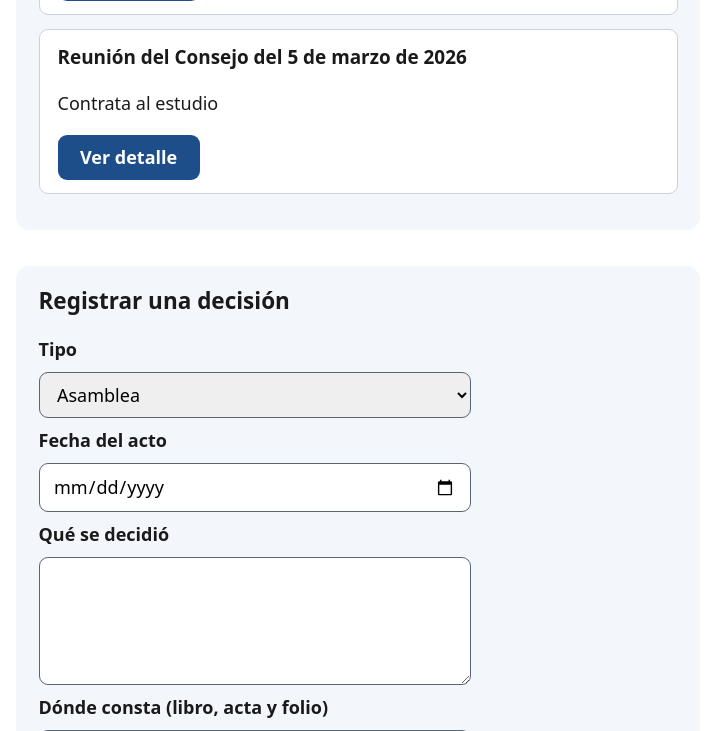
Test case: página /mandatos › registra una decisión con CSRF y una clave de reintento, y vuelve a pedir las listas
This screenshot has width=717, height=731.
(page scrolled)
Select "Contrato de administración" in the dropdown labelled "Tipo" at (254, 395), box [38, 372, 470, 418]
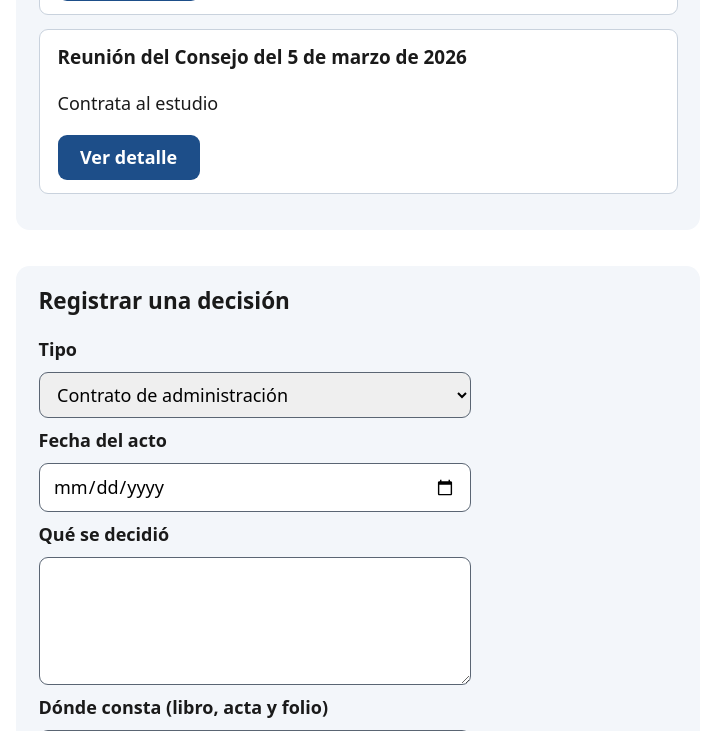
Type "2026-10-01" into the date field labelled "Fecha del acto" at (254, 488), box [38, 463, 470, 512]
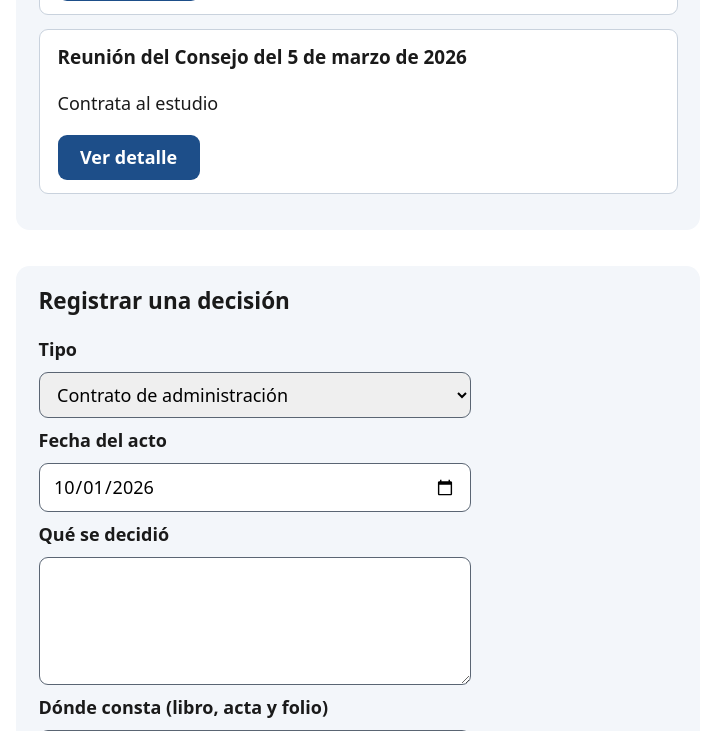
Type " Contrata al estudio " into the text box labelled "Qué se decidió" at (254, 621), box [38, 557, 470, 685]
(page scrolled)
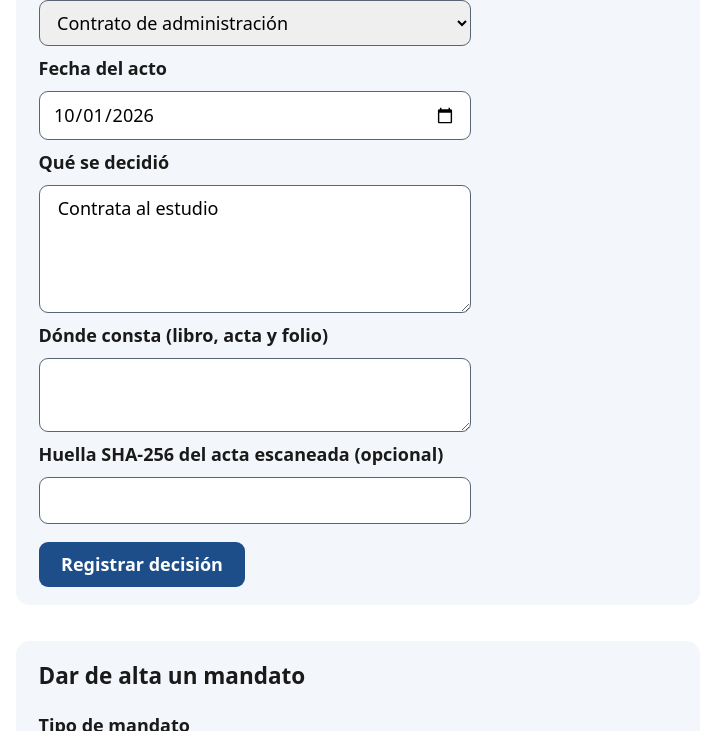
Type "Contrato del 01-10" into the text box labelled "Dónde consta (libro, acta y folio)" at (254, 395), box [38, 358, 470, 432]
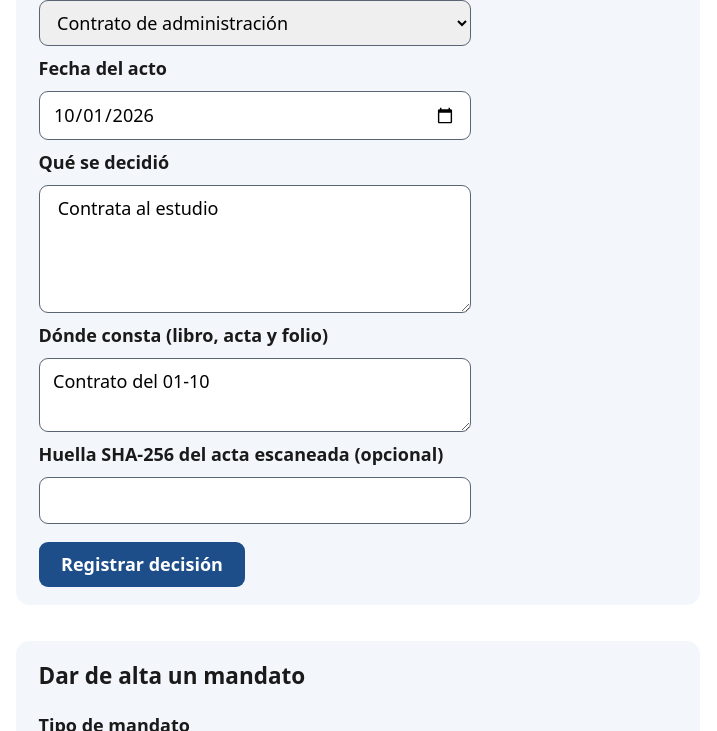
Click the button "Registrar decisión" at (142, 565), box [38, 542, 245, 587]
(page scrolled)
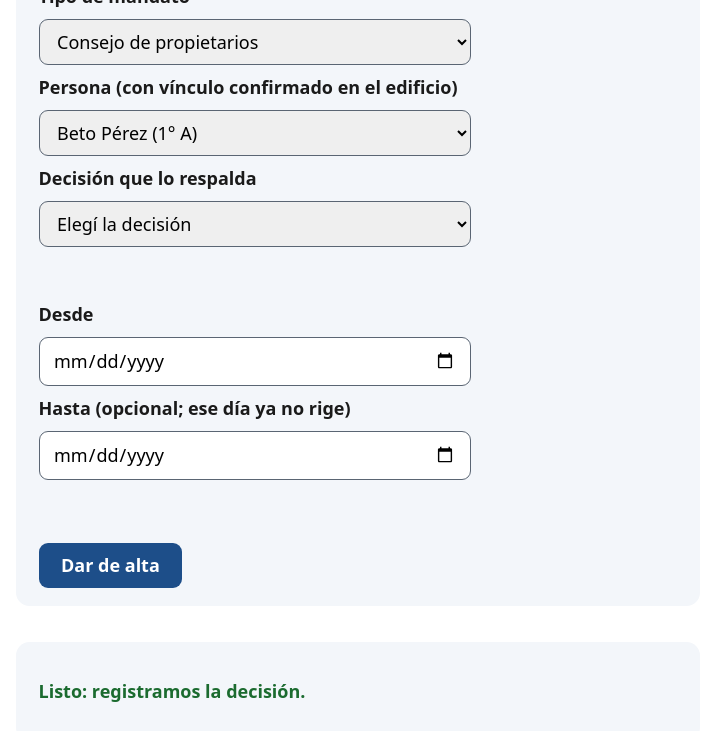
Expected: the text "Listo: registramos la decisión." is shown, [38, 679, 306, 703]
